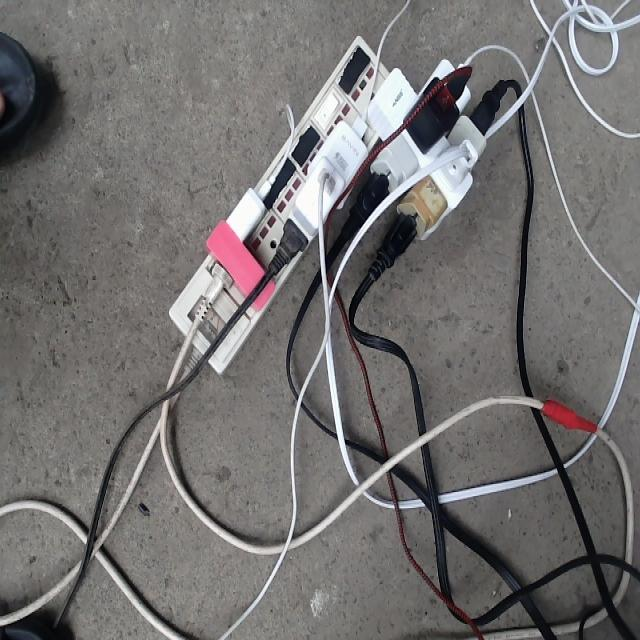-: (166, 33, 506, 376)
